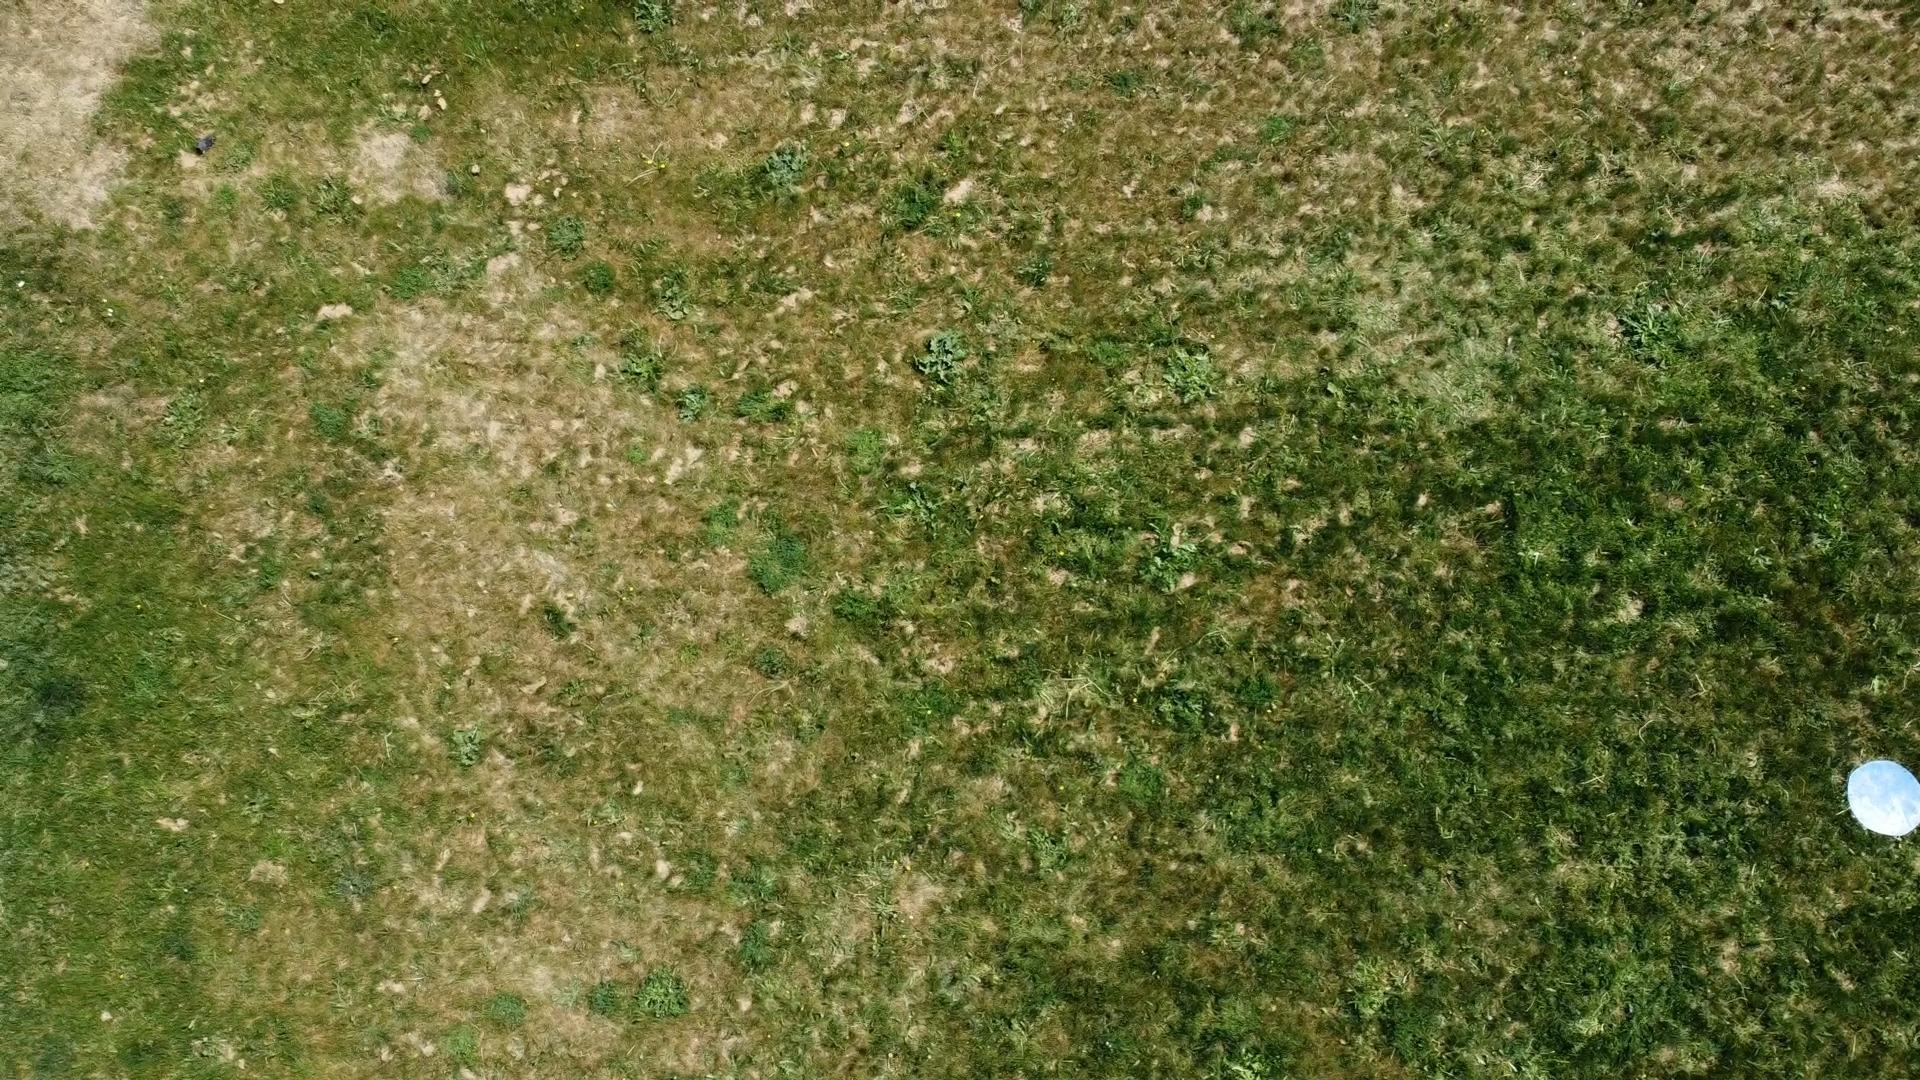Blue: (1846, 757, 1920, 840)
